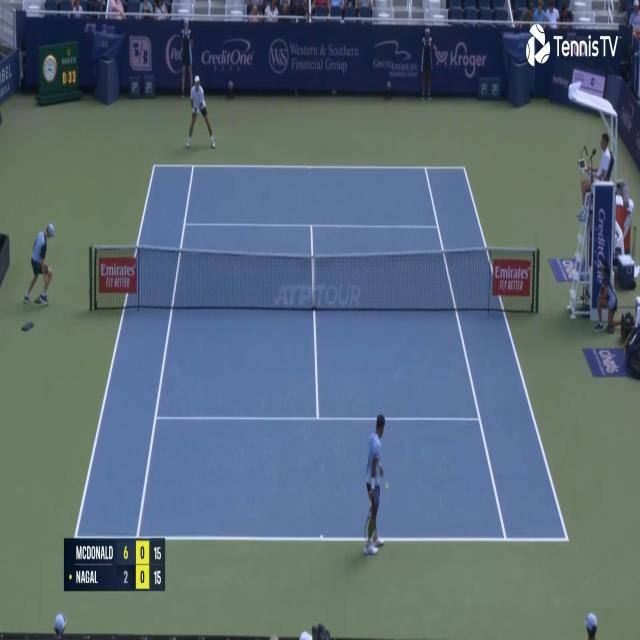tennis-player: (360, 409, 390, 562), (184, 74, 217, 152)
